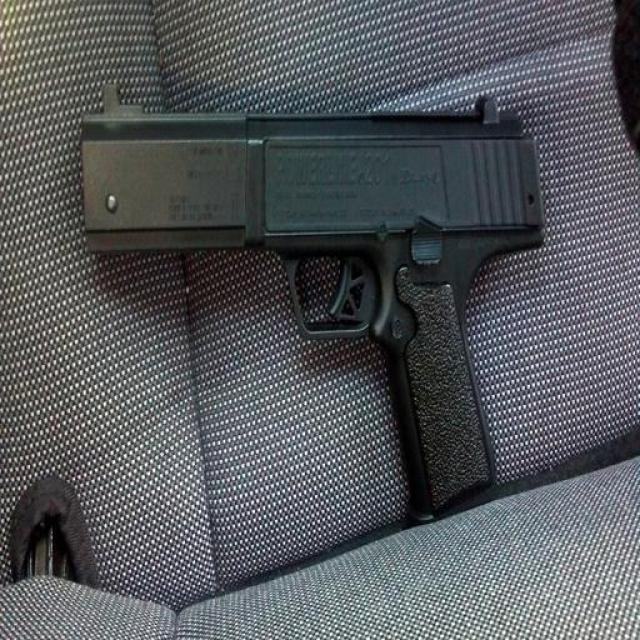pistol: (83, 77, 544, 525)
